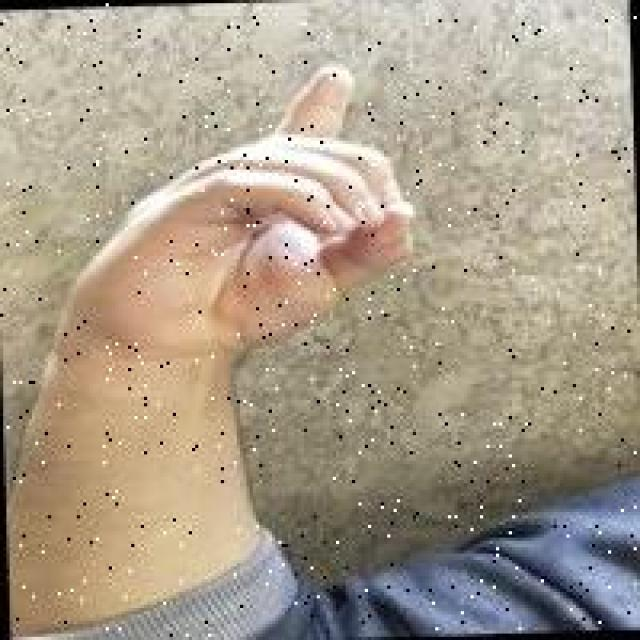D: (88, 45, 446, 362)
